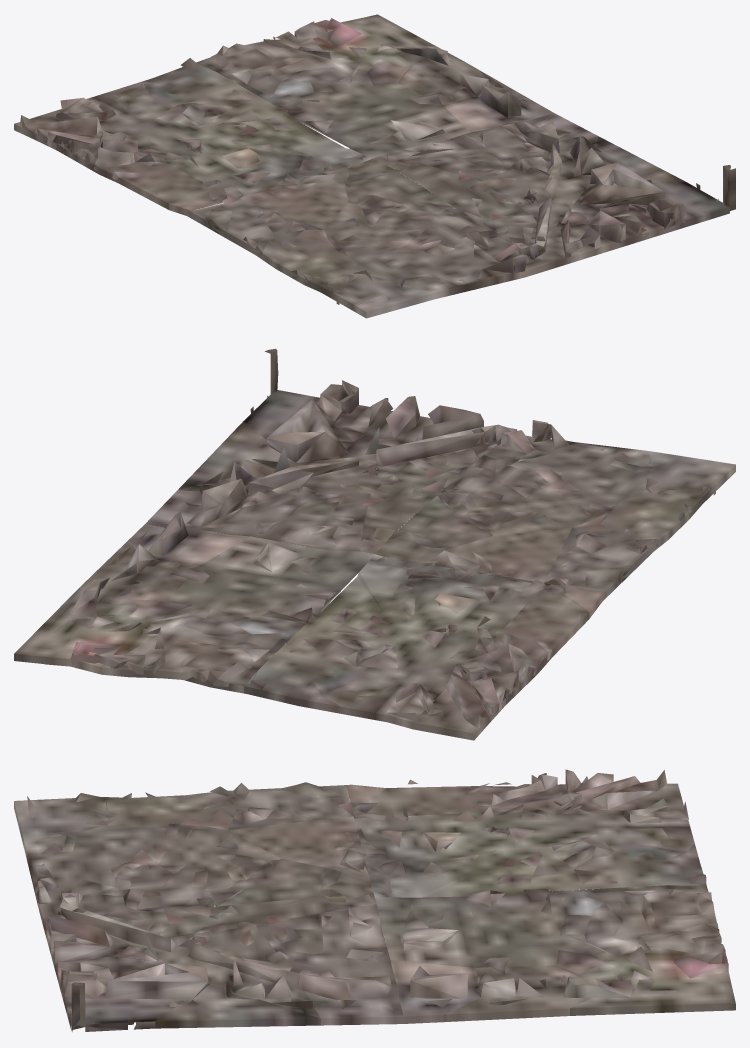
3 renders of one model, top to bottom at view 1: azimuth 30°, elevation 25°; view 2: azimuth 150°, elevation 25°; view 3: azimuth 270°, elevation 25°, orthographic. The views are drawn at different scales.
Visible parts, largest first — view 1: Mesh_0; view 2: Mesh_0; view 3: Mesh_0.
Boxes of the visible parts, <box> form: Mesh_0: <box>14,14,735,318</box>; Mesh_0: <box>14,348,735,740</box>; Mesh_0: <box>14,769,735,1031</box>.
Bounding box in the file's own units: 1079 × 119 × 1318.
Materials: 1 (1 with a texture image).
